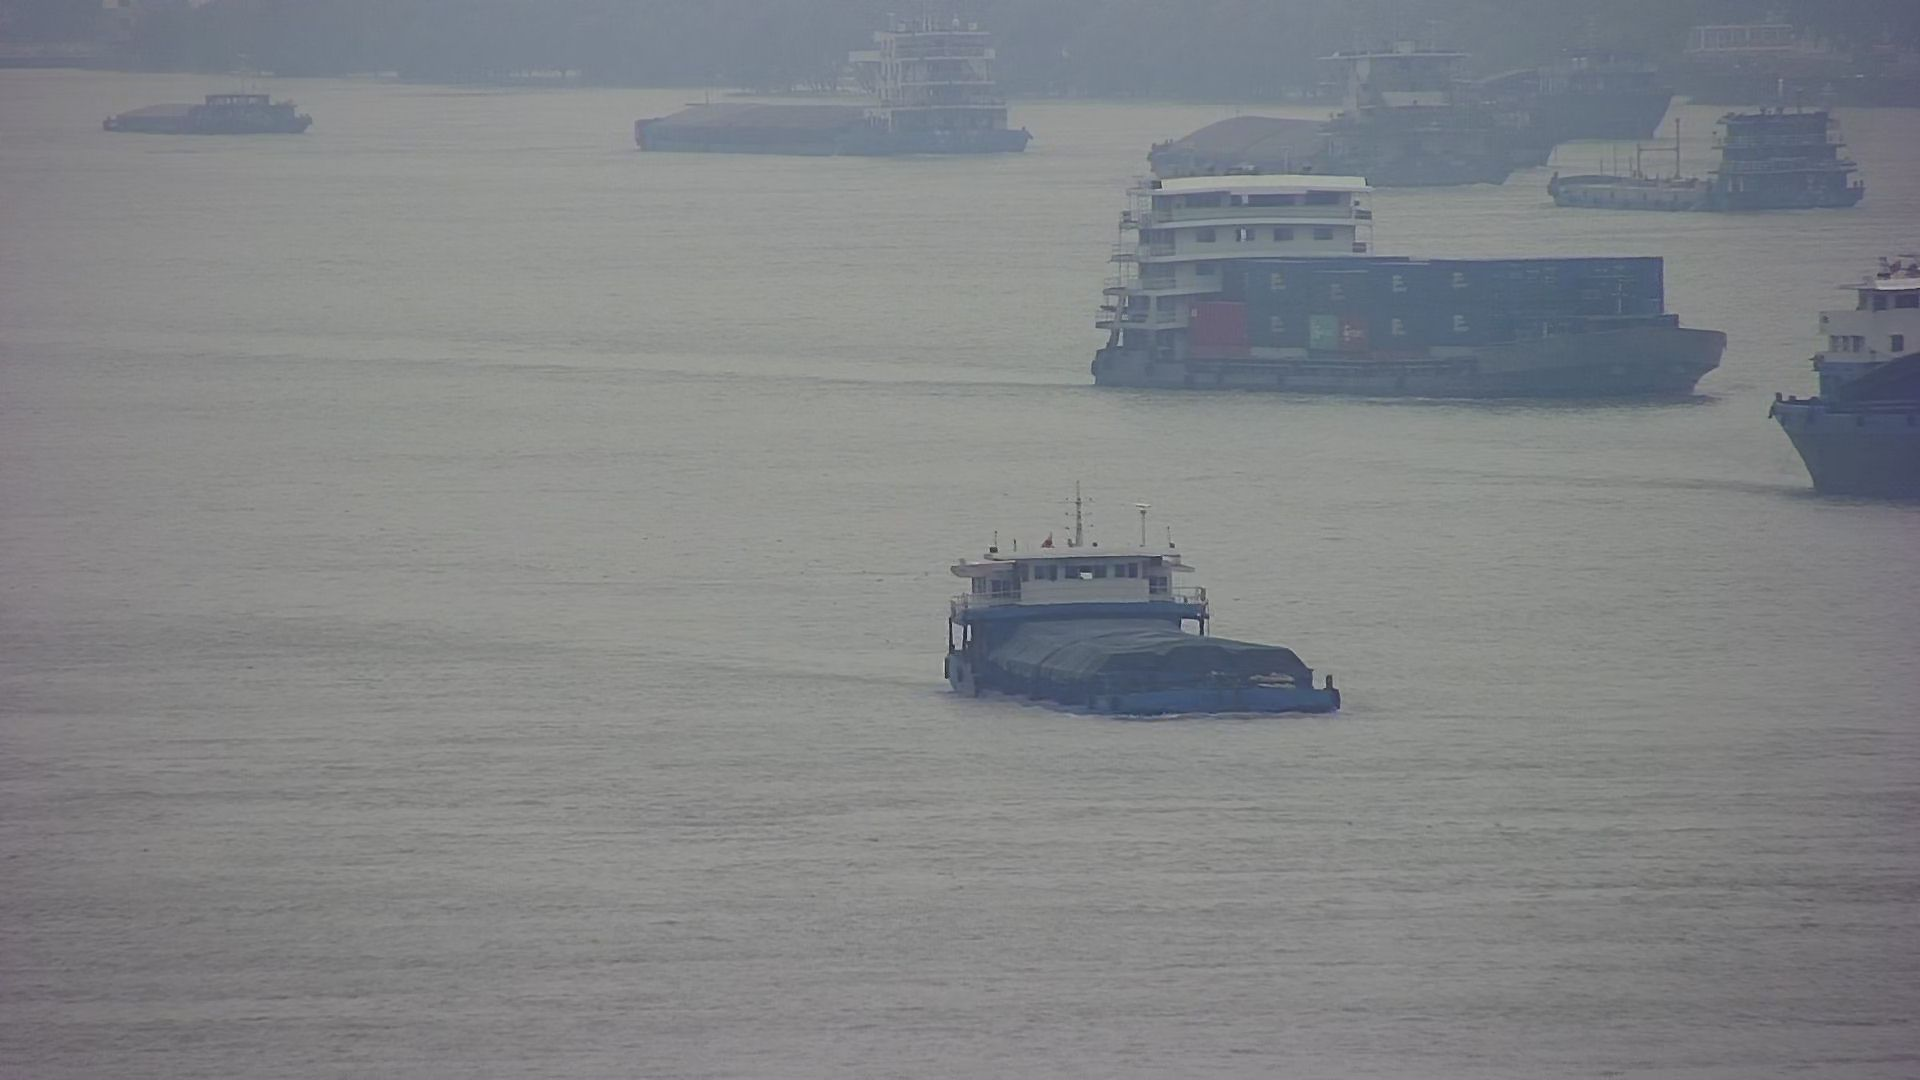ship: (1062, 158, 1739, 402), (949, 477, 1348, 717), (1137, 28, 1526, 187), (636, 15, 1033, 160), (1771, 247, 1920, 500), (1549, 105, 1863, 211), (103, 79, 313, 132)
